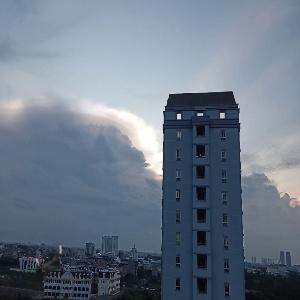drone: (34, 246, 72, 284)
